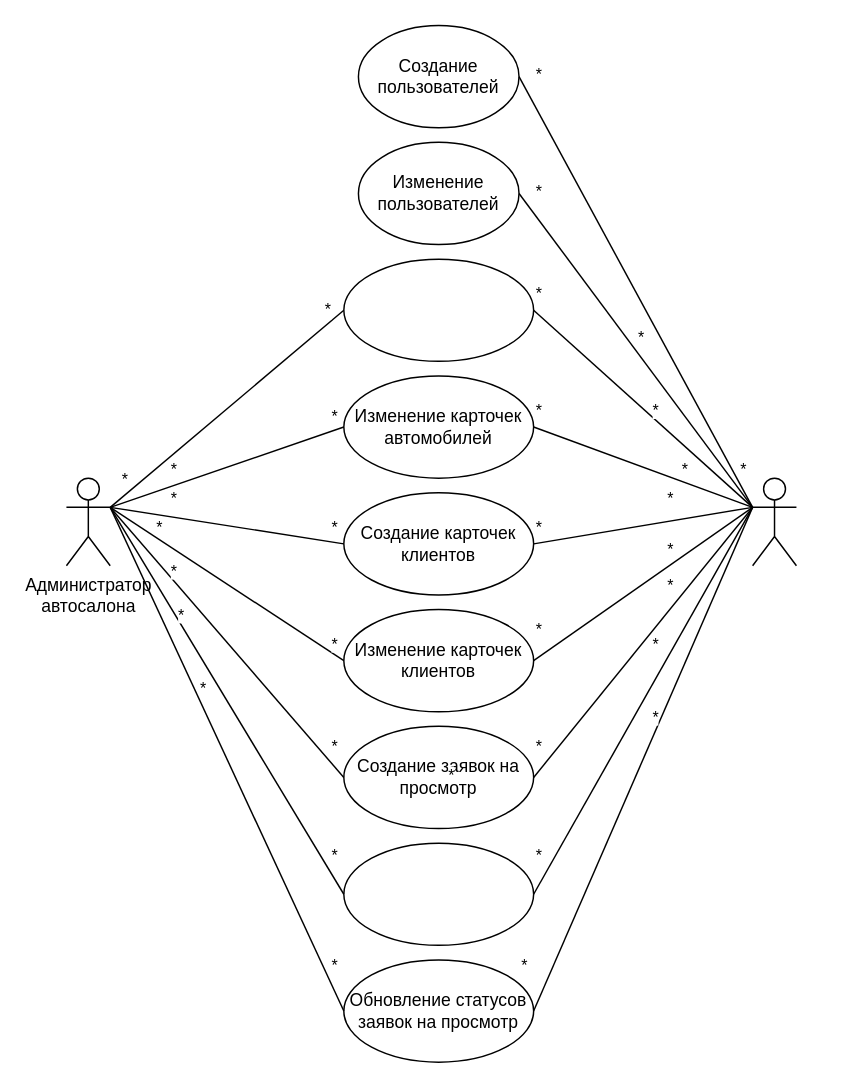
The diagram is 863 pixels wide and 1088 high, and some of its shapes have lost their labels. Here are the shapes that lost their labels. From the top down, the box of each, then its label:
(342, 258, 534, 361): Создание карточек автомобилей
(751, 477, 796, 566): Администратор системы
(342, 842, 534, 945): Изменение заявок на просмотр
